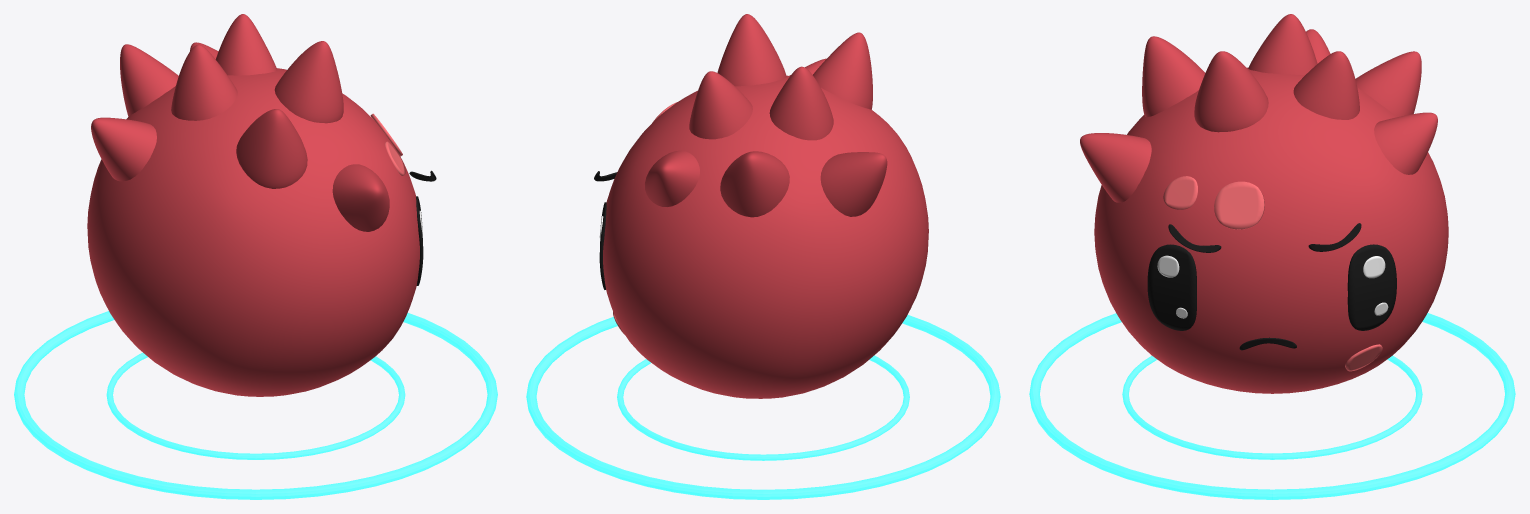
The model's file is Monster.fbx.
3 renders of one model, left to right at view 1: azimuth 30°, elevation 25°; view 2: azimuth 150°, elevation 25°; view 3: azimuth 270°, elevation 25°, orthographic. The views are drawn at different scales.
Parts seen in each view (by area): view 1: Body, Torus, Cube.006, Cube.001, Cube.005, Torus.002, Cube.010, Cube.002, Cube.003, Cube.004; view 2: Body, Torus, Cube.003, Cube.010, Cube.005, Cube.001, Cube.004, Torus.002, Cube.006, Cube.007; view 3: Body, Torus, Cube.001, Cube.002, Cube.006, Cube.004, Left eye, Right eye, Torus.002, Cube.003, Cube.007, Cube.005 (+3 smaller).
Part boxes in pixels (box(x1,y1,x2,y2)): Body: box(87, 68, 419, 396); Torus: box(14, 311, 497, 499); Cube.006: box(236, 109, 307, 188); Cube.001: box(274, 41, 343, 123); Cube.005: box(171, 44, 237, 120); Torus.002: box(106, 352, 405, 459); Cube.010: box(91, 117, 156, 181); Cube.002: box(332, 164, 389, 231); Cube.003: box(120, 44, 178, 116); Cube.004: box(215, 14, 277, 75); Body: box(603, 75, 928, 398); Torus: box(526, 315, 1000, 499); Cube.003: box(720, 151, 789, 217); Cube.010: box(820, 152, 887, 216); Cube.005: box(769, 66, 833, 140); Cube.001: box(717, 14, 786, 86); Cube.004: box(689, 71, 752, 139); Torus.002: box(617, 355, 909, 460); Cube.006: box(813, 32, 872, 109); Cube.007: box(645, 150, 699, 206); Body: box(1094, 67, 1448, 393); Torus: box(1029, 313, 1515, 499); Cube.001: box(1194, 51, 1268, 132); Cube.002: box(1080, 133, 1151, 202); Cube.006: box(1142, 36, 1205, 117); Cube.004: box(1293, 51, 1359, 119); Left eye: box(1147, 244, 1196, 330); Right eye: box(1347, 244, 1396, 330); Torus.002: box(1122, 355, 1422, 459); Cube.003: box(1355, 51, 1421, 116); Cube.007: box(1374, 112, 1437, 174); Cube.005: box(1248, 14, 1317, 74).
Bounding box in the file's own units: 244 × 204 × 244.
